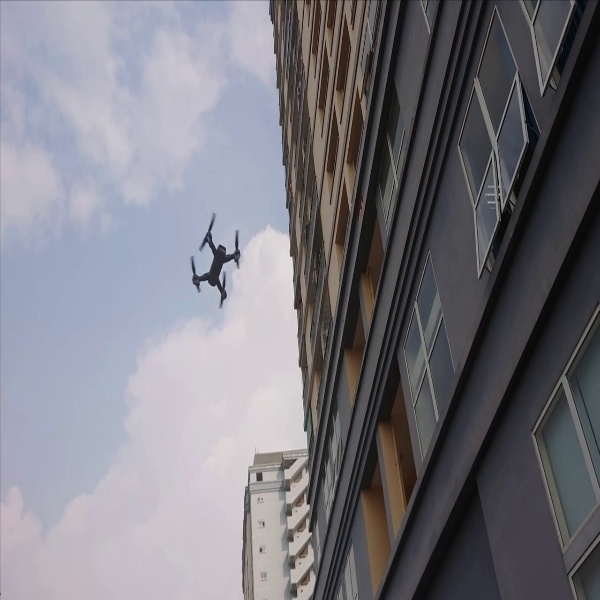drone: (187, 209, 244, 308)
